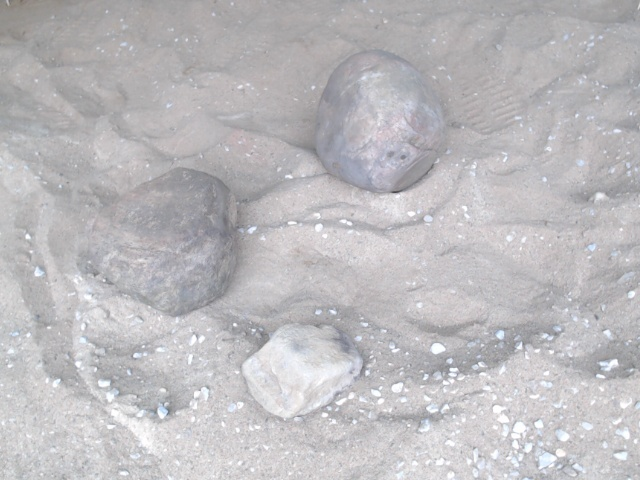rock: (70, 163, 245, 322), (308, 46, 450, 198), (235, 315, 368, 423)
